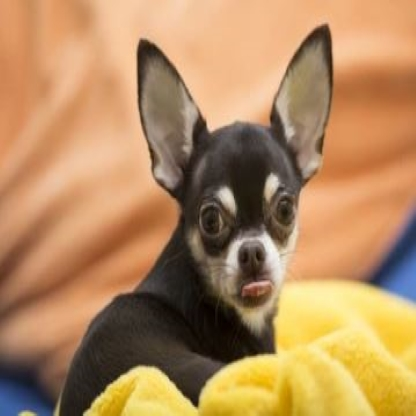chihuahua: (55, 21, 335, 413)
